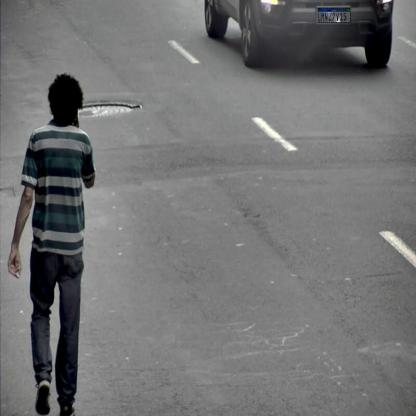PlacaM: (318, 8, 350, 23)
